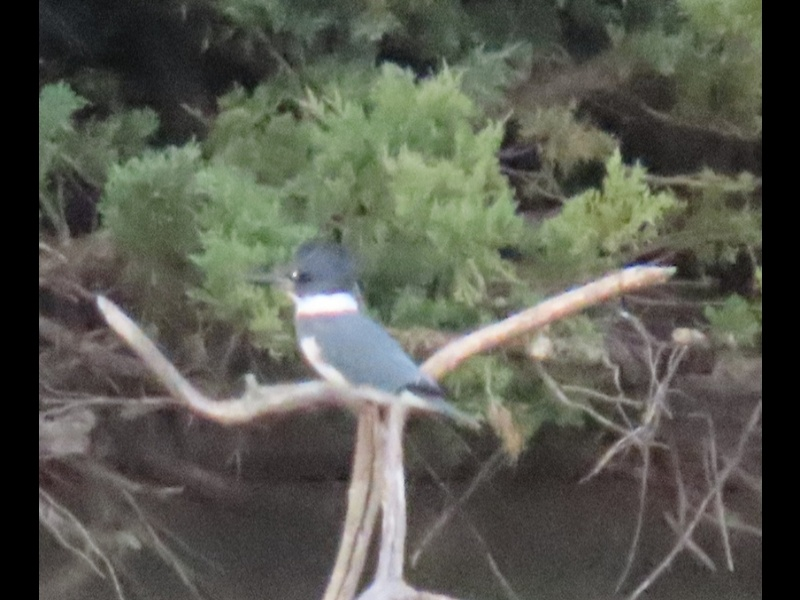kingfisher: (247, 237, 489, 434)
